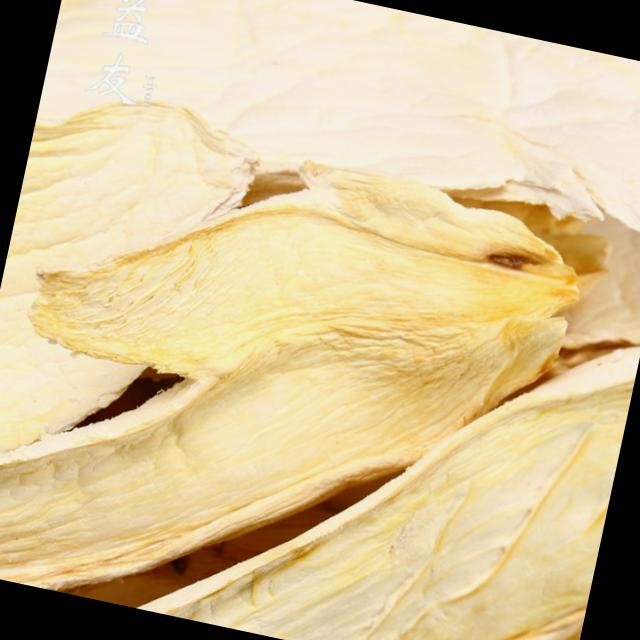Pleurotus eryngii: (0, 215, 536, 640), (172, 275, 638, 640)
